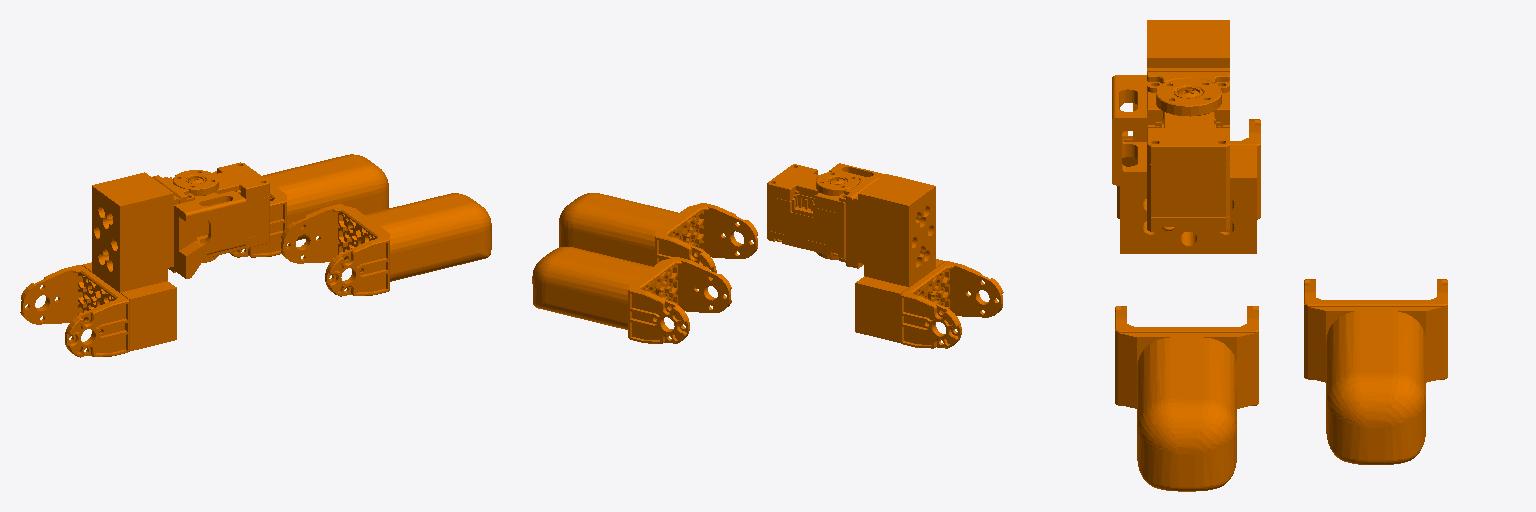
URDF robot description (onshape):
<robot name="onshape">
  <link name="palm_lower">
    <inertial>
      <origin xyz="0.0 0.0 0.0" rpy="0.0 -0.0 0.0"/>
      <mass value="0.237"/>
      <inertia ixx="0.000354094" ixy="-1.193e-06" ixz="-2.445e-06" iyy="0.000260915" iyz="-2.905e-06" izz="0.000529257"/>
    </inertial>
    <visual>
      <geometry>
        <mesh filename="../assets/leap/leap_hand/palm_lower.stl"/>
      </geometry>
      <origin xyz="-0.020095249652862544 0.025757756134899473 -0.034722403578460216" rpy="0.0 -0.0 0.0"/>
      <material name="palm_lower_material">
        <color rgba="0.6039215686274509 0.14901960784313725 0.14901960784313725 1.0"/>
      </material>
    </visual>
    <collision>
      <geometry>
        <mesh filename="../assets/leap/leap_hand/palm_lower.stl"/>
      </geometry>
      <origin xyz="-0.020095249652862544 0.025757756134899473 -0.034722403578460216" rpy="0.0 -0.0 0.0"/>
    </collision>
  </link>
  <link name="mcp_joint">
    <inertial>
      <origin xyz="0.0 0.0 0.0" rpy="0.0 -0.0 0.0"/>
      <mass value="0.044"/>
      <inertia ixx="1.1499e-05" ixy="3.049e-06" ixz="1.21e-07" iyy="7.796e-06" iyz="1.12e-07" izz="1.4759e-05"/>
    </inertial>
    <visual>
      <geometry>
        <mesh filename="../assets/leap/leap_hand/mcp_joint.stl"/>
      </geometry>
      <origin xyz="0.008406902261174496 0.0077662438597169954 0.014657354985032912" rpy="1.6375789613221e-15 -1.021047330249102e-30 1.7177968783327987e-31"/>
      <material name="mcp_joint_material">
        <color rgba="0.8666666666666667 0.8666666666666667 0.050980392156862744 1.0"/>
      </material>
    </visual>
    <collision>
      <geometry>
        <mesh filename="../assets/leap/leap_hand/mcp_joint.stl"/>
      </geometry>
      <origin xyz="0.008406902261174496 0.0077662438597169954 0.014657354985032912" rpy="1.6375789613221e-15 -1.021047330249102e-30 1.7177968783327987e-31"/>
    </collision>
  </link>
  <link name="pip">
    <inertial>
      <origin xyz="0.0 0.0 0.0" rpy="0.0 -0.0 0.0"/>
      <mass value="0.032"/>
      <inertia ixx="4.798e-06" ixy="1.2e-08" ixz="4e-09" iyy="2.862e-06" iyz="1.1e-08" izz="4.234e-06"/>
    </inertial>
    <visual>
      <geometry>
        <mesh filename="../assets/leap/leap_hand/pip.stl"/>
      </geometry>
      <origin xyz="0.009643363092271328 0.0002999999999999895 0.0007840340104173765" rpy="-1.5707963267948966 -1.5707963267948963 0.0"/>
      <material name="pip_material">
        <color rgba="0.7490196078431373 0.7490196078431373 0.7490196078431373 1.0"/>
      </material>
    </visual>
    <collision>
      <geometry>
        <mesh filename="../assets/leap/leap_hand/pip.stl"/>
      </geometry>
      <origin xyz="0.009643363092271328 0.0002999999999999895 0.0007840340104173765" rpy="-1.5707963267948966 -1.5707963267948963 0.0"/>
    </collision>
  </link>
  <link name="dip">
    <inertial>
      <origin xyz="0.0 0.0 0.0" rpy="0.0 -0.0 0.0"/>
      <mass value="0.037"/>
      <inertia ixx="5.542e-06" ixy="-6.07e-07" ixz="-1.7e-08" iyy="5.727e-06" iyz="-2.3e-08" izz="6.682e-06"/>
    </inertial>
    <visual>
      <geometry>
        <mesh filename="../assets/leap/leap_hand/dip.stl"/>
      </geometry>
      <origin xyz="0.021133352895225003 -0.00843211914670488 0.00978508816209524" rpy="-3.141592653589793 4.507511124216441e-32 4.439548105392361e-32"/>
      <material name="dip_material">
        <color rgba="0.8666666666666667 0.8666666666666667 0.050980392156862744 1.0"/>
      </material>
    </visual>
    <collision>
      <geometry>
        <mesh filename="../assets/leap/leap_hand/dip.stl"/>
      </geometry>
      <origin xyz="0.021133352895225003 -0.00843211914670488 0.00978508816209524" rpy="-3.141592653589793 4.507511124216441e-32 4.439548105392361e-32"/>
    </collision>
  </link>
  <link name="fingertip_long">
    <inertial>
      <origin xyz="0.0 0.0 0.0" rpy="0.0 -0.0 0.0"/>
      <mass value="0.016"/>
      <inertia ixx="3.368e-06" ixy="1.15e-07" ixz="0.0" iyy="1.556e-06" iyz="0.0" izz="2.863e-06"/>
    </inertial>
    <visual>
      <geometry>
        <mesh filename="custom_models/fingertip_long.stl"/>
      </geometry>
      <origin xyz="0.013286424108533503 -0.006114238386541987 0.014499999999999498" rpy="3.141592653589793 1.1993117970061735e-33 4.439548105392361e-32"/>
      <material name="fingertip_material">
        <color rgba="0.878 0.467 0.0 1.0"/>
      </material>
    </visual>
    <collision>
      <geometry>
        <mesh filename="custom_models/fingertip_long.stl"/>
      </geometry>
      <origin xyz="0.013286424108533503 -0.006114238386541987 0.014499999999999498" rpy="3.141592653589793 1.1993117970061735e-33 4.439548105392361e-32"/>
    </collision>
  </link>
  <link name="pip_4">
    <inertial>
      <origin xyz="0.0 0.0 0.0" rpy="0.0 -0.0 0.0"/>
      <mass value="0.032"/>
      <inertia ixx="4.798e-06" ixy="1.2e-08" ixz="4e-09" iyy="2.862e-06" iyz="1.1e-08" izz="4.234e-06"/>
    </inertial>
    <visual>
      <geometry>
        <mesh filename="../assets/leap/leap_hand/pip.stl"/>
      </geometry>
      <origin xyz="-0.005356636907728671 0.0002999999999999999 0.0007840340104173782" rpy="-1.5707963267948966 -1.5707963267948963 0.0"/>
      <material name="pip_material">
        <color rgba="0.7490196078431373 0.7490196078431373 0.7490196078431373 1.0"/>
      </material>
    </visual>
    <collision>
      <geometry>
        <mesh filename="../assets/leap/leap_hand/pip.stl"/>
      </geometry>
      <origin xyz="-0.005356636907728671 0.0002999999999999999 0.0007840340104173782" rpy="-1.5707963267948966 -1.5707963267948963 0.0"/>
    </collision>
  </link>
  <link name="thumb_pip">
    <inertial>
      <origin xyz="0.0 0.0 0.0" rpy="0.0 -0.0 0.0"/>
      <mass value="0.003"/>
      <inertia ixx="5.93e-07" ixy="0.0" ixz="0.0" iyy="5.49e-07" iyz="0.0" izz="2.24e-07"/>
    </inertial>
    <visual>
      <geometry>
        <mesh filename="../assets/leap/leap_hand/thumb_pip.stl"/>
      </geometry>
      <origin xyz="0.011961920770611187 -5.30825383648903e-16 -0.0158526489566642" rpy="1.5707963267948966 1.6050198443300153e-46 -3.9204996250525193e-59"/>
      <material name="thumb_pip_material">
        <color rgba="0.8666666666666667 0.8666666666666667 0.050980392156862744 1.0"/>
      </material>
    </visual>
    <collision>
      <geometry>
        <mesh filename="../assets/leap/leap_hand/thumb_pip.stl"/>
      </geometry>
      <origin xyz="0.011961920770611187 -5.30825383648903e-16 -0.0158526489566642" rpy="1.5707963267948966 1.6050198443300153e-46 -3.9204996250525193e-59"/>
    </collision>
  </link>
  <link name="thumb_dip">
    <inertial>
      <origin xyz="0.0 0.0 0.0" rpy="0.0 -0.0 0.0"/>
      <mass value="0.038"/>
      <inertia ixx="8.474e-06" ixy="2.41e-07" ixz="2.6e-08" iyy="3.841e-06" iyz="2.5e-08" izz="7.679e-06"/>
    </inertial>
    <visual>
      <geometry>
        <mesh filename="../assets/leap/leap_hand/thumb_dip.stl"/>
      </geometry>
      <origin xyz="0.043968715707239175 0.0579529529737092 -0.008628676449369476" rpy="1.94289029309401e-16 3.27515792264422e-15 1.112375852965736e-46"/>
      <material name="thumb_dip_material">
        <color rgba="0.8666666666666667 0.8666666666666667 0.050980392156862744 1.0"/>
      </material>
    </visual>
    <collision>
      <geometry>
        <mesh filename="../assets/leap/leap_hand/thumb_dip.stl"/>
      </geometry>
      <origin xyz="0.043968715707239175 0.0579529529737092 -0.008628676449369476" rpy="1.94289029309401e-16 3.27515792264422e-15 1.112375852965736e-46"/>
    </collision>
  </link>
  <link name="thumb_fingertip">
    <inertial>
      <origin xyz="0.0 0.0 0.0" rpy="0.0 -0.0 0.0"/>
      <mass value="0.049"/>
      <inertia ixx="2.0372e-05" ixy="-4.89e-07" ixz="-3e-08" iyy="4.336e-06" iyz="-9.7e-08" izz="1.9845e-05"/>
    </inertial>
    <visual>
      <geometry>
        <mesh filename="../assets/leap/leap_hand/thumb_fingertip.stl"/>
      </geometry>
      <origin xyz="0.06255953846266739 0.07845968291139699 0.048992911807332215" rpy="4.379057701015637e-47 -3.33066907387547e-16 1.2042408677791935e-46"/>
      <material name="thumb_fingertip_material">
        <color rgba="0.6039215686274509 0.14901960784313725 0.14901960784313725 1.0"/>
      </material>
    </visual>
    <collision>
      <geometry>
        <mesh filename="../assets/leap/leap_hand/thumb_fingertip.stl"/>
      </geometry>
      <origin xyz="0.06255953846266739 0.07845968291139699 0.048992911807332215" rpy="4.379057701015637e-47 -3.33066907387547e-16 1.2042408677791935e-46"/>
    </collision>
  </link>
  <link name="mcp_joint_2_long">
    <inertial>
      <origin xyz="0.0 0.0 0.0" rpy="0.0 -0.0 0.0"/>
      <mass value="0.044"/>
      <inertia ixx="1.1499e-05" ixy="3.049e-06" ixz="1.21e-07" iyy="7.796e-06" iyz="1.12e-07" izz="1.4759e-05"/>
    </inertial>
    <visual>
      <geometry>
        <mesh filename="custom_models/mcp_joint_long.stl"/>
      </geometry>
      <origin xyz="0.008406902261174496 0.0077662438597169954 0.014657354985032914" rpy="1.6375789613221e-15 -1.0076465469034e-30 2.1209300131419907e-61"/>
      <material name="mcp_joint_material">
        <color rgba="0.878 0.467 0.0 1.0"/>
      </material>
    </visual>
    <collision>
      <geometry>
        <mesh filename="custom_models/mcp_joint_long.stl"/>
      </geometry>
      <origin xyz="0.008406902261174496 0.0077662438597169954 0.014657354985032914" rpy="1.6375789613221e-15 -1.0076465469034e-30 2.1209300131419907e-61"/>
    </collision>
  </link>
  <link name="pip_2">
    <inertial>
      <origin xyz="0.0 0.0 0.0" rpy="0.0 -0.0 0.0"/>
      <mass value="0.032"/>
      <inertia ixx="4.798e-06" ixy="1.2e-08" ixz="4e-09" iyy="2.862e-06" iyz="1.1e-08" izz="4.234e-06"/>
    </inertial>
    <visual>
      <geometry>
        <mesh filename="../assets/leap/leap_hand/pip.stl"/>
      </geometry>
      <origin xyz="0.009643363092271328 0.0002999999999999947 0.0007840340104173765" rpy="-1.5707963267948966 -1.5707963267948963 0.0"/>
      <material name="pip_material">
        <color rgba="0.7490196078431373 0.7490196078431373 0.7490196078431373 1.0"/>
      </material>
    </visual>
    <collision>
      <geometry>
        <mesh filename="../assets/leap/leap_hand/pip.stl"/>
      </geometry>
      <origin xyz="0.009643363092271328 0.0002999999999999947 0.0007840340104173765" rpy="-1.5707963267948966 -1.5707963267948963 0.0"/>
    </collision>
  </link>
  <link name="dip_2">
    <inertial>
      <origin xyz="0.0 0.0 0.0" rpy="0.0 -0.0 0.0"/>
      <mass value="0.037"/>
      <inertia ixx="5.542e-06" ixy="-6.07e-07" ixz="-1.7e-08" iyy="5.727e-06" iyz="-2.3e-08" izz="6.682e-06"/>
    </inertial>
    <visual>
      <geometry>
        <mesh filename="../assets/leap/leap_hand/dip.stl"/>
      </geometry>
      <origin xyz="0.021133352895225003 -0.008432119146704865 0.009785088162095237" rpy="-3.141592653589793 2.1146933785271956e-32 1.4408183216511869e-31"/>
      <material name="dip_material">
        <color rgba="0.8666666666666667 0.8666666666666667 0.050980392156862744 1.0"/>
      </material>
    </visual>
    <collision>
      <geometry>
        <mesh filename="../assets/leap/leap_hand/dip.stl"/>
      </geometry>
      <origin xyz="0.021133352895225003 -0.008432119146704865 0.009785088162095237" rpy="-3.141592653589793 2.1146933785271956e-32 1.4408183216511869e-31"/>
    </collision>
  </link>
  <link name="fingertip_2_long">
    <inertial>
      <origin xyz="0.0 0.0 0.0" rpy="0.0 -0.0 0.0"/>
      <mass value="0.016"/>
      <inertia ixx="3.368e-06" ixy="1.15e-07" ixz="0.0" iyy="1.556e-06" iyz="0.0" izz="2.863e-06"/>
    </inertial>
    <visual>
      <geometry>
        <mesh filename="custom_models/fingertip_long.stl"/>
      </geometry>
      <origin xyz="0.013286424108533496 -0.006114238386542001 0.014499999999999496" rpy="3.141592653589793 -4.317959788283594e-33 1.4408183216511869e-31"/>
      <material name="fingertip_material">
        <color rgba="0.878 0.467 0.0 1.0"/>
      </material>
    </visual>
    <collision>
      <geometry>
        <mesh filename="custom_models/fingertip_long.stl"/>
      </geometry>
      <origin xyz="0.013286424108533496 -0.006114238386542001 0.014499999999999496" rpy="3.141592653589793 -4.317959788283594e-33 1.4408183216511869e-31"/>
    </collision>
  </link>
  <link name="mcp_joint_3">
    <inertial>
      <origin xyz="0.0 0.0 0.0" rpy="0.0 -0.0 0.0"/>
      <mass value="0.044"/>
      <inertia ixx="1.1499e-05" ixy="3.049e-06" ixz="1.21e-07" iyy="7.796e-06" iyz="1.12e-07" izz="1.4759e-05"/>
    </inertial>
    <visual>
      <geometry>
        <mesh filename="../assets/leap/leap_hand/mcp_joint.stl"/>
      </geometry>
      <origin xyz="0.0084069022611745 0.007766243859716996 0.014657354985032914" rpy="1.6375789613221e-15 -1.0059504988632627e-30 5.729641584552035e-32"/>
      <material name="mcp_joint_material">
        <color rgba="0.8666666666666667 0.8666666666666667 0.050980392156862744 1.0"/>
      </material>
    </visual>
    <collision>
      <geometry>
        <mesh filename="../assets/leap/leap_hand/mcp_joint.stl"/>
      </geometry>
      <origin xyz="0.0084069022611745 0.007766243859716996 0.014657354985032914" rpy="1.6375789613221e-15 -1.0059504988632627e-30 5.729641584552035e-32"/>
    </collision>
  </link>
  <link name="pip_3">
    <inertial>
      <origin xyz="0.0 0.0 0.0" rpy="0.0 -0.0 0.0"/>
      <mass value="0.032"/>
      <inertia ixx="4.798e-06" ixy="1.2e-08" ixz="4e-09" iyy="2.862e-06" iyz="1.1e-08" izz="4.234e-06"/>
    </inertial>
    <visual>
      <geometry>
        <mesh filename="../assets/leap/leap_hand/pip.stl"/>
      </geometry>
      <origin xyz="0.009643363092271331 0.00029999999999998084 0.0007840340104173765" rpy="-1.5707963267948966 -1.5707963267948963 0.0"/>
      <material name="pip_material">
        <color rgba="0.7490196078431373 0.7490196078431373 0.7490196078431373 1.0"/>
      </material>
    </visual>
    <collision>
      <geometry>
        <mesh filename="../assets/leap/leap_hand/pip.stl"/>
      </geometry>
      <origin xyz="0.009643363092271331 0.00029999999999998084 0.0007840340104173765" rpy="-1.5707963267948966 -1.5707963267948963 0.0"/>
    </collision>
  </link>
  <link name="dip_3">
    <inertial>
      <origin xyz="0.0 0.0 0.0" rpy="0.0 -0.0 0.0"/>
      <mass value="0.037"/>
      <inertia ixx="5.542e-06" ixy="-6.07e-07" ixz="-1.7e-08" iyy="5.727e-06" iyz="-2.3e-08" izz="6.682e-06"/>
    </inertial>
    <visual>
      <geometry>
        <mesh filename="../assets/leap/leap_hand/dip.stl"/>
      </geometry>
      <origin xyz="0.021133352895225006 -0.008432119146704865 0.009785088162095237" rpy="-3.141592653589793 -1.4095651113919093e-33 1.5565411607615035e-32"/>
      <material name="dip_material">
        <color rgba="0.8666666666666667 0.8666666666666667 0.050980392156862744 1.0"/>
      </material>
    </visual>
    <collision>
      <geometry>
        <mesh filename="../assets/leap/leap_hand/dip.stl"/>
      </geometry>
      <origin xyz="0.021133352895225006 -0.008432119146704865 0.009785088162095237" rpy="-3.141592653589793 -1.4095651113919093e-33 1.5565411607615035e-32"/>
    </collision>
  </link>
  <link name="fingertip_3">
    <inertial>
      <origin xyz="0.0 0.0 0.0" rpy="0.0 -0.0 0.0"/>
      <mass value="0.016"/>
      <inertia ixx="3.368e-06" ixy="1.15e-07" ixz="0.0" iyy="1.556e-06" iyz="0.0" izz="2.863e-06"/>
    </inertial>
    <visual>
      <geometry>
        <mesh filename="../assets/leap/leap_hand/fingertip.stl"/>
      </geometry>
      <origin xyz="0.013286424108533501 -0.006114238386541987 0.0144999999999995" rpy="3.141592653589793 8.61707169505754e-33 1.5565411607615035e-32"/>
      <material name="fingertip_material">
        <color rgba="0.8666666666666667 0.8666666666666667 0.050980392156862744 1.0"/>
      </material>
    </visual>
    <collision>
      <geometry>
        <mesh filename="../assets/leap/leap_hand/fingertip.stl"/>
      </geometry>
      <origin xyz="0.013286424108533501 -0.006114238386541987 0.0144999999999995" rpy="3.141592653589793 8.61707169505754e-33 1.5565411607615035e-32"/>
    </collision>
  </link>
  <joint name="1" type="revolute">
    <parent link="palm_lower"/>
    <child link="mcp_joint"/>
    <origin xyz="-0.007095249652862546 0.023057756134899472 -0.01872240357846022" rpy="1.570796326794895 1.5707963267948946 0.0"/>
    <axis xyz="0.0 0.0 -1.0"/>
    <limit effort="0.95" velocity="8.48" lower="-0.314" upper="2.23"/>
  </joint>
  <joint name="0" type="revolute">
    <parent link="mcp_joint"/>
    <child link="pip"/>
    <origin xyz="-0.012200000000000008 0.038099999999999995 0.0145" rpy="-1.5707963267948966 -1.0065212660796337e-15 1.5707963267948943"/>
    <axis xyz="0.0 0.0 -1.0"/>
    <limit effort="0.95" velocity="8.48" lower="-1.047" upper="1.047"/>
  </joint>
  <joint name="2" type="revolute">
    <parent link="pip"/>
    <child link="dip"/>
    <origin xyz="0.014999999999999968 0.014299999999999905 -0.012999999999999824" rpy="1.570796326794896 -1.5707963267948963 0.0"/>
    <axis xyz="0.0 0.0 -1.0"/>
    <limit effort="0.95" velocity="8.48" lower="-0.506" upper="1.885"/>
  </joint>
  <joint name="3" type="revolute">
    <parent link="dip"/>
    <child link="fingertip_long"/>
    <origin xyz="-4.088058249557269e-09 -0.03610000421036737 0.0002000000000000786" rpy="4.5935029425113685e-17 -2.8730071914463795e-16 4.439548105392361e-32"/>
    <axis xyz="0.0 0.0 -1.0"/>
    <limit effort="0.95" velocity="8.48" lower="-0.366" upper="2.042"/>
  </joint>
  <joint name="12" type="revolute">
    <parent link="palm_lower"/>
    <child link="pip_4"/>
    <origin xyz="-0.06939524965286253 -0.0012422438651005258 -0.021622403578460216" rpy="-8.238176646493942e-17 1.5707963267948957 0.0"/>
    <axis xyz="0.0 0.0 -1.0"/>
    <limit effort="0.95" velocity="8.48" lower="-0.349" upper="2.094"/>
  </joint>
  <joint name="13" type="revolute">
    <parent link="pip_4"/>
    <child link="thumb_pip"/>
    <origin xyz="-2.7755575615628914e-17 0.014300000000000005 -0.013000000000000012" rpy="1.570796326794896 -1.5707963267948963 0.0"/>
    <axis xyz="0.0 0.0 -1.0"/>
    <limit effort="0.95" velocity="8.48" lower="-0.47" upper="2.443"/>
  </joint>
  <joint name="14" type="revolute">
    <parent link="thumb_pip"/>
    <child link="thumb_dip"/>
    <origin xyz="0.0 0.014499999999999966 -0.017000000000000053" rpy="-1.5707963267948966 1.6050198443300131e-46 -1.9721522630516625e-31"/>
    <axis xyz="0.0 0.0 -1.0"/>
    <limit effort="0.95" velocity="8.48" lower="-1.2" upper="1.9"/>
  </joint>
  <joint name="15" type="revolute">
    <parent link="thumb_dip"/>
    <child link="thumb_fingertip"/>
    <origin xyz="-1.249000902703301e-16 0.046599999999999864 0.0001999999999999771" rpy="1.506395849149178e-44 5.423418723393526e-31 3.141592653589793"/>
    <axis xyz="0.0 0.0 -1.0"/>
    <limit effort="0.95" velocity="8.48" lower="-1.34" upper="1.88"/>
  </joint>
  <joint name="5" type="revolute">
    <parent link="palm_lower"/>
    <child link="mcp_joint_2_long"/>
    <origin xyz="-0.007095249652862546 -0.022392243865100525 -0.01872240357846022" rpy="1.570796326794895 1.5707963267948946 0.0"/>
    <axis xyz="0.0 0.0 -1.0"/>
    <limit effort="0.95" velocity="8.48" lower="-0.314" upper="2.23"/>
  </joint>
  <joint name="4" type="revolute">
    <parent link="mcp_joint_2_long"/>
    <child link="pip_2"/>
    <origin xyz="-0.012200000000000007713 0.053099999999999994982 0.014500000000000000736" rpy="-1.5707963267948966 -1.0065212660796337e-15 1.5707963267948943"/>
    <axis xyz="0.0 0.0 -1.0"/>
    <limit effort="0.95" velocity="8.48" lower="-1.047" upper="1.047"/>
  </joint>
  <joint name="6" type="revolute">
    <parent link="pip_2"/>
    <child link="dip_2"/>
    <origin xyz="0.014999999999999968 0.014299999999999905 -0.012999999999999824" rpy="1.570796326794896 -1.5707963267948963 0.0"/>
    <axis xyz="0.0 0.0 -1.0"/>
    <limit effort="0.95" velocity="8.48" lower="-0.506" upper="1.885"/>
  </joint>
  <joint name="7" type="revolute">
    <parent link="dip_2"/>
    <child link="fingertip_2_long"/>
    <origin xyz="-4.088058249557269e-09 -0.03610000421036737 0.0002000000000000786" rpy="4.5935029425113685e-17 -2.8730071914463795e-16 4.439548105392361e-32"/>
    <axis xyz="0.0 0.0 -1.0"/>
    <limit effort="0.95" velocity="8.48" lower="-0.366" upper="2.042"/>
  </joint>
  <joint name="9" type="revolute">
    <parent link="palm_lower"/>
    <child link="mcp_joint_3"/>
    <origin xyz="-0.007095249652862546 -0.06784224386510052 -0.01872240357846022" rpy="1.570796326794895 1.5707963267948946 0.0"/>
    <axis xyz="0.0 0.0 -1.0"/>
    <limit effort="0.95" velocity="8.48" lower="-0.314" upper="2.23"/>
  </joint>
  <joint name="8" type="revolute">
    <parent link="mcp_joint_3"/>
    <child link="pip_3"/>
    <origin xyz="-0.012200000000000008 0.038099999999999995 0.0145" rpy="-1.5707963267948966 -1.0065212660796337e-15 1.5707963267948943"/>
    <axis xyz="0.0 0.0 -1.0"/>
    <limit effort="0.95" velocity="8.48" lower="-1.047" upper="1.047"/>
  </joint>
  <joint name="10" type="revolute">
    <parent link="pip_3"/>
    <child link="dip_3"/>
    <origin xyz="0.014999999999999968 0.014299999999999905 -0.012999999999999824" rpy="1.570796326794896 -1.5707963267948963 0.0"/>
    <axis xyz="0.0 0.0 -1.0"/>
    <limit effort="0.95" velocity="8.48" lower="-0.506" upper="1.885"/>
  </joint>
  <joint name="11" type="revolute">
    <parent link="dip_3"/>
    <child link="fingertip_3"/>
    <origin xyz="-4.088058249557269e-09 -0.03610000421036737 0.0002000000000000786" rpy="4.5935029425113685e-17 -2.8730071914463795e-16 4.439548105392361e-32"/>
    <axis xyz="0.0 0.0 -1.0"/>
    <limit effort="0.95" velocity="8.48" lower="-0.366" upper="2.042"/>
  </joint>
</robot>

--- Facts derived from the render (not from the file) ---
Views: 3 orthographic renders of the robot side by side, from view 1: azimuth 30°, elevation 25°; view 2: azimuth 150°, elevation 25°; view 3: azimuth 270°, elevation 25°.
Robot: onshape — 17 links, 16 joints (16 revolute); root link palm_lower; default pose: all joints at 0.
Visible links, largest first — view 1: mcp_joint_2_long, fingertip_2_long, fingertip_long; view 2: mcp_joint_2_long, fingertip_long, fingertip_2_long; view 3: mcp_joint_2_long, fingertip_long, fingertip_2_long.
Link boxes in pixels (x1,y1,x2,y2): mcp_joint_2_long: (20, 162, 269, 357); fingertip_2_long: (281, 193, 491, 296); fingertip_long: (213, 154, 388, 257); mcp_joint_2_long: (767, 163, 1003, 348); fingertip_long: (532, 247, 731, 343); fingertip_2_long: (559, 193, 757, 288); mcp_joint_2_long: (1112, 20, 1260, 253); fingertip_long: (1304, 279, 1447, 464); fingertip_2_long: (1115, 306, 1258, 491).
Size in the robot's own frame: 0.1766 by 0.0808 by 0.0549 metres.
Meshes: 10 distinct files referenced, 3 mesh visuals loaded (2 binary STL); not drawn: 14 (reference not matched to a file when rendering).